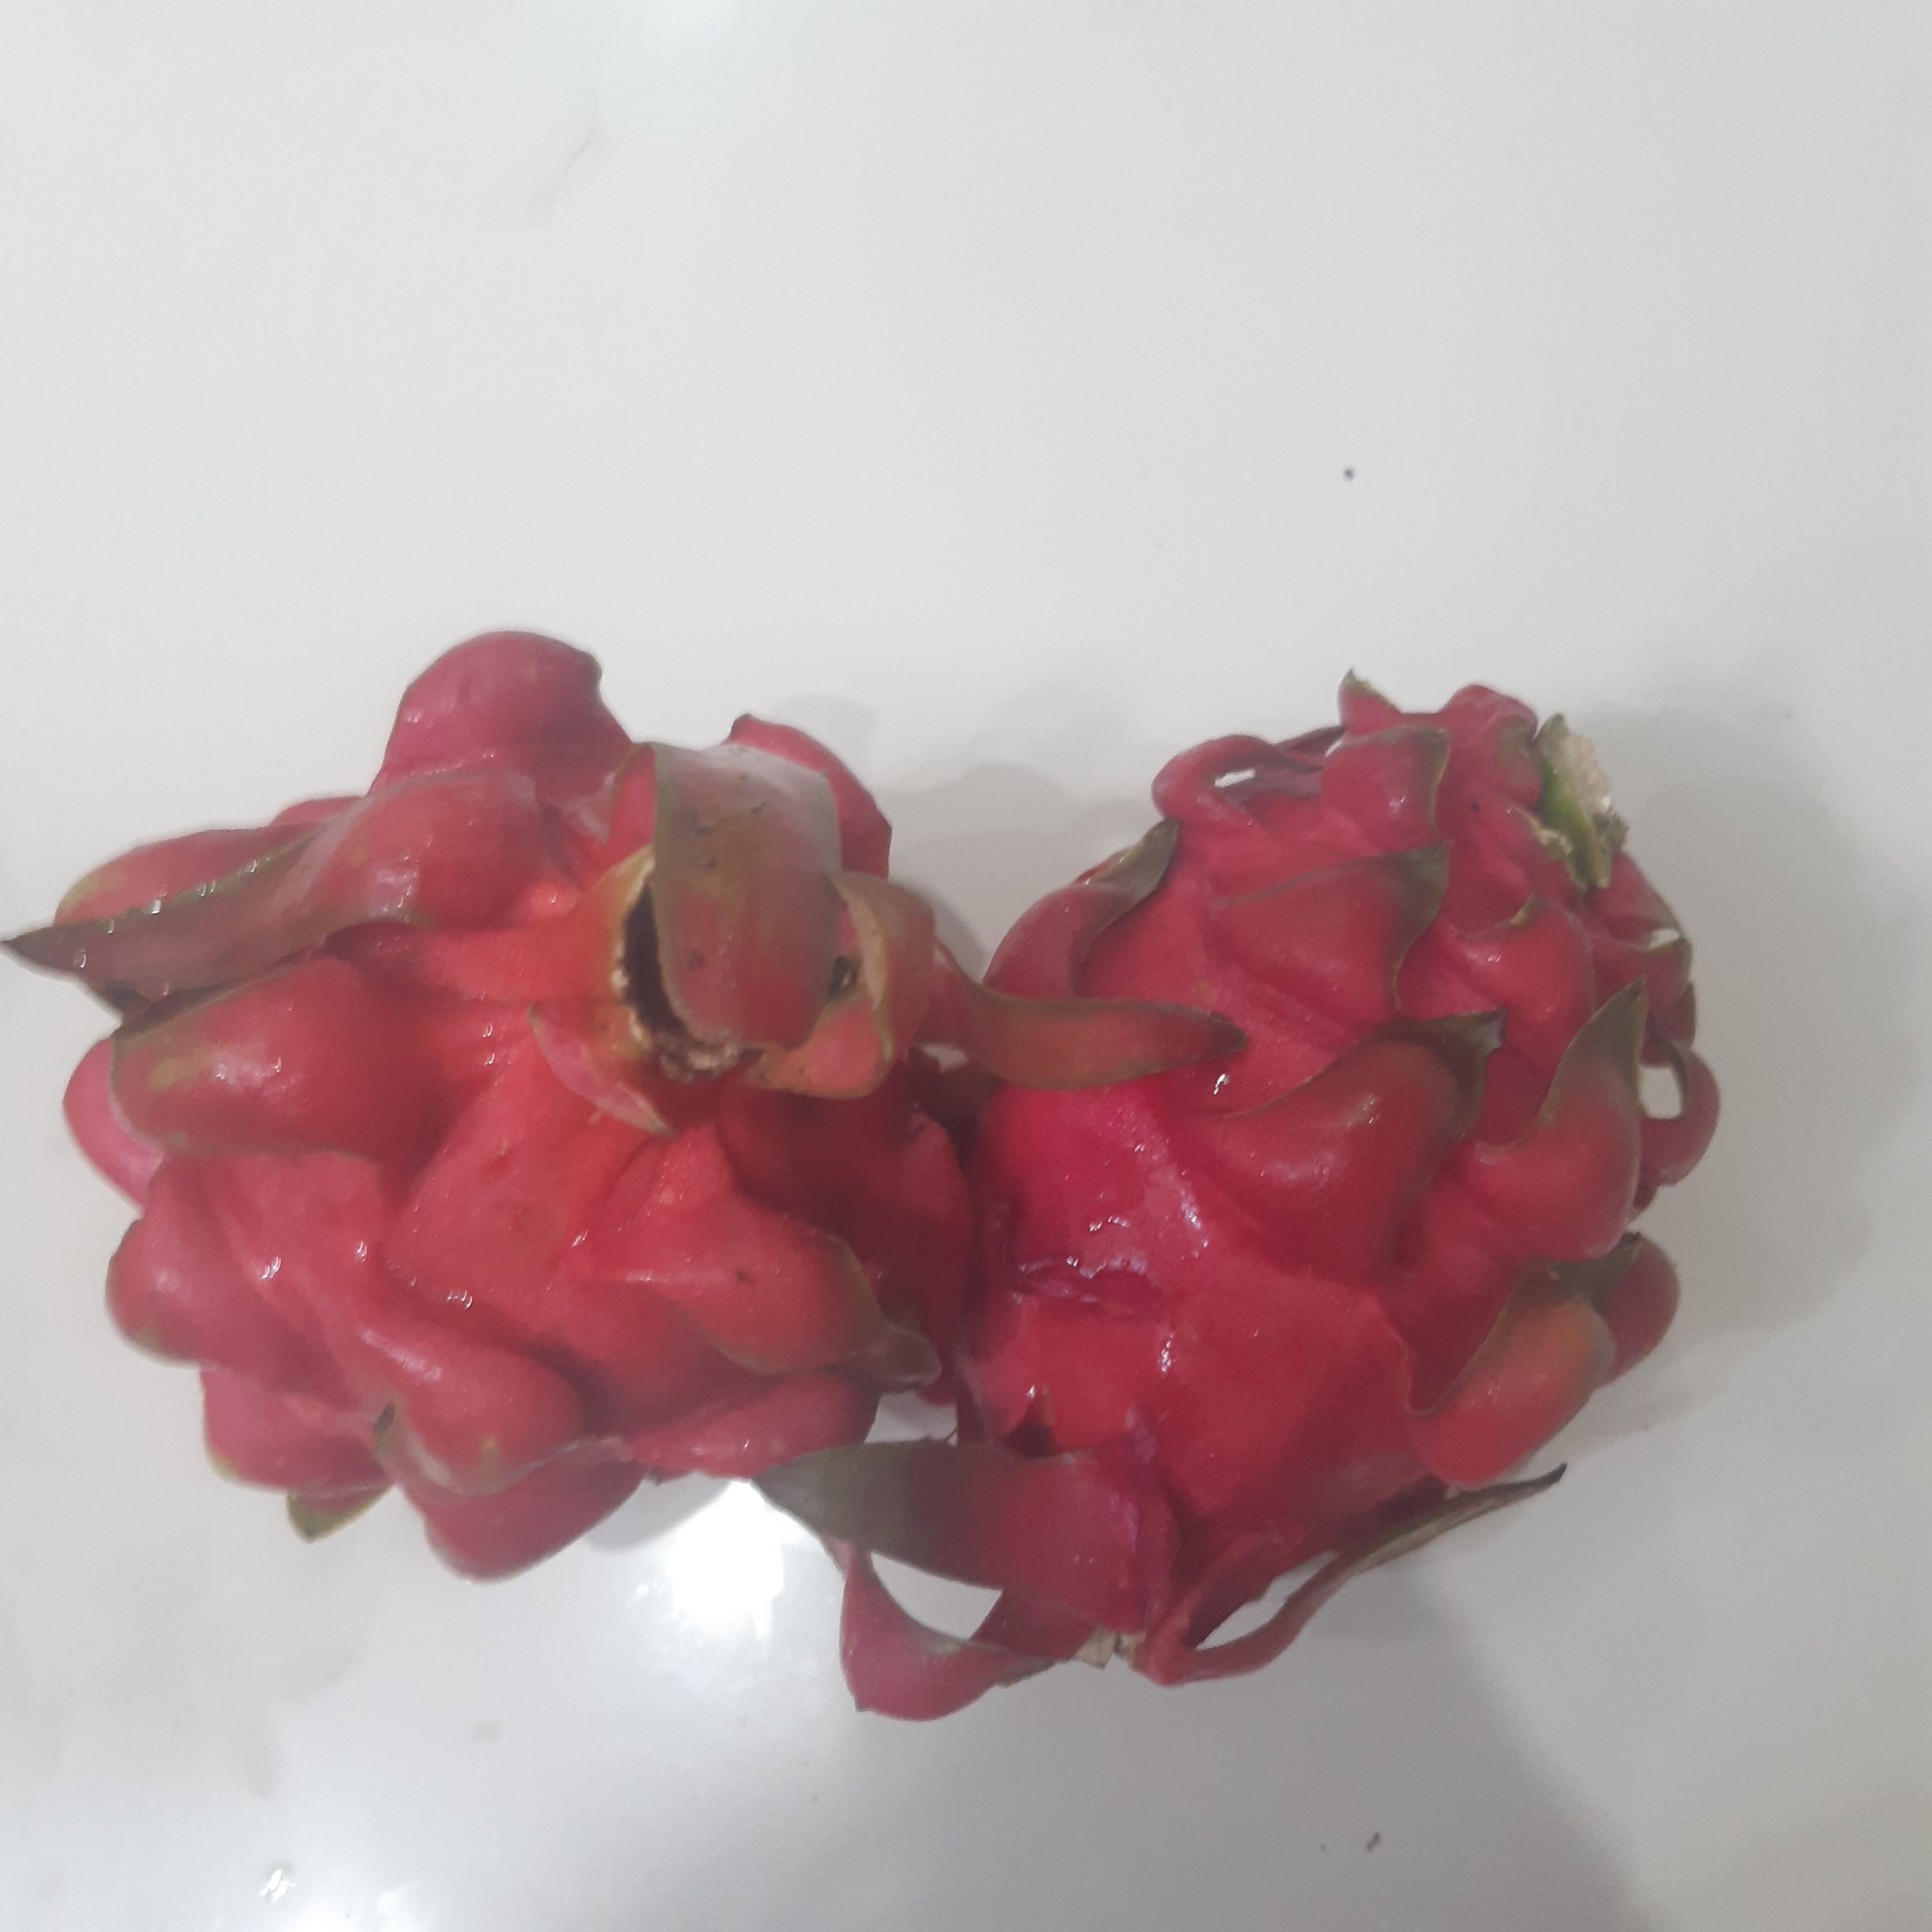Thanh long: (32, 697, 982, 1522), (925, 702, 1718, 1624)
